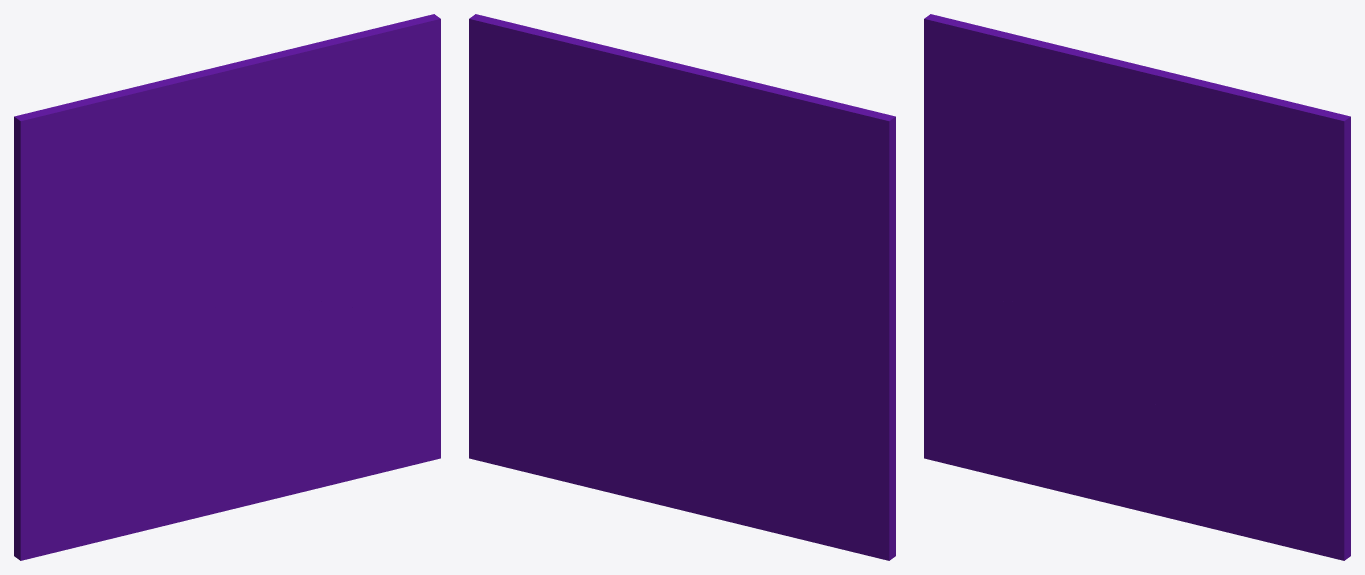
Rendered from MemorialFrame_3.004_chunks.fbx.
3 renders of one model, left to right at view 1: azimuth 30°, elevation 25°; view 2: azimuth 150°, elevation 25°; view 3: azimuth 330°, elevation 25°, orthographic.
Visible parts, largest first — view 1: MemorialFrame_3.004_0, MemorialFrame_3.004_12, MemorialFrame_3.004_1, MemorialFrame_3.004_4, MemorialFrame_3.004_6, MemorialFrame_3.004_9, MemorialFrame_3.004_7, MemorialFrame_3.004_11, MemorialFrame_3.004_8, MemorialFrame_3.004_5, MemorialFrame_3.004_2, MemorialFrame_3.004_3 (+1 smaller); view 2: MemorialFrame_3.004_0, MemorialFrame_3.004_12, MemorialFrame_3.004_4, MemorialFrame_3.004_1, MemorialFrame_3.004_10, MemorialFrame_3.004_6, MemorialFrame_3.004_9, MemorialFrame_3.004_7, MemorialFrame_3.004_2, MemorialFrame_3.004_5, MemorialFrame_3.004_8, MemorialFrame_3.004_3; view 3: MemorialFrame_3.004_0, MemorialFrame_3.004_12, MemorialFrame_3.004_4, MemorialFrame_3.004_1, MemorialFrame_3.004_6, MemorialFrame_3.004_9, MemorialFrame_3.004_7, MemorialFrame_3.004_11, MemorialFrame_3.004_8, MemorialFrame_3.004_5, MemorialFrame_3.004_2, MemorialFrame_3.004_3 (+1 smaller).
Boxes of the visible parts, x1,y1,x2,y2 form: MemorialFrame_3.004_0: (14, 304, 215, 560); MemorialFrame_3.004_12: (289, 14, 440, 225); MemorialFrame_3.004_1: (14, 143, 145, 406); MemorialFrame_3.004_4: (14, 63, 242, 230); MemorialFrame_3.004_6: (291, 341, 440, 494); MemorialFrame_3.004_9: (231, 49, 317, 287); MemorialFrame_3.004_7: (165, 386, 298, 525); MemorialFrame_3.004_11: (277, 193, 440, 318); MemorialFrame_3.004_8: (193, 285, 309, 403); MemorialFrame_3.004_5: (309, 299, 440, 372); MemorialFrame_3.004_2: (121, 255, 234, 353); MemorialFrame_3.004_3: (144, 172, 238, 271); MemorialFrame_3.004_0: (669, 285, 895, 560); MemorialFrame_3.004_12: (469, 14, 619, 230); MemorialFrame_3.004_4: (672, 62, 895, 233); MemorialFrame_3.004_1: (766, 139, 895, 401); MemorialFrame_3.004_10: (469, 196, 675, 332); MemorialFrame_3.004_6: (469, 352, 607, 492); MemorialFrame_3.004_9: (593, 49, 681, 290); MemorialFrame_3.004_7: (600, 373, 720, 519); MemorialFrame_3.004_2: (679, 215, 793, 343); MemorialFrame_3.004_5: (469, 307, 612, 384); MemorialFrame_3.004_8: (613, 296, 689, 386); MemorialFrame_3.004_3: (677, 187, 722, 223); MemorialFrame_3.004_0: (924, 297, 1119, 493); MemorialFrame_3.004_12: (1199, 81, 1350, 331); MemorialFrame_3.004_4: (924, 14, 1147, 188); MemorialFrame_3.004_1: (924, 41, 1048, 304); MemorialFrame_3.004_6: (1195, 411, 1350, 560); MemorialFrame_3.004_9: (1137, 67, 1220, 293); MemorialFrame_3.004_7: (1068, 385, 1201, 524); MemorialFrame_3.004_11: (1180, 235, 1348, 420); MemorialFrame_3.004_8: (1096, 287, 1212, 418); MemorialFrame_3.004_5: (1212, 338, 1350, 449); MemorialFrame_3.004_2: (1024, 214, 1137, 300); MemorialFrame_3.004_3: (1048, 175, 1141, 272).
Size of the model in its own units: 797 by 797 by 21.54.
